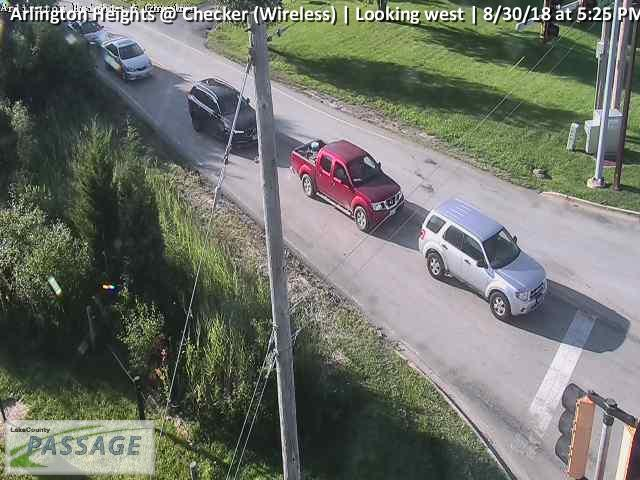SUV: (416, 195, 548, 322), (187, 78, 258, 150)
Sedan: (99, 36, 152, 82), (65, 18, 107, 47)
Truck: (287, 136, 404, 234)
